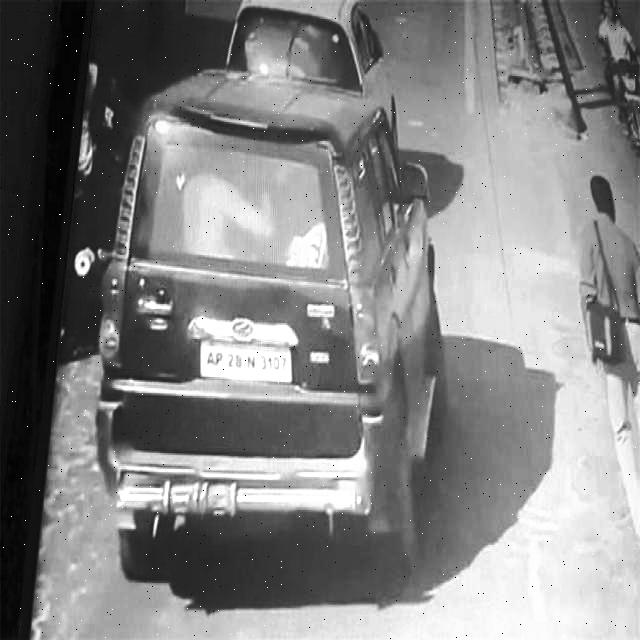Car: (108, 66, 447, 636)
